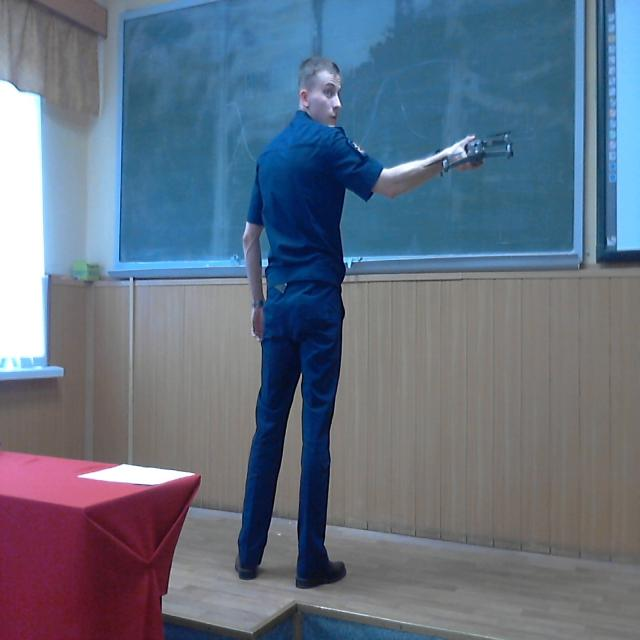drone: (429, 118, 533, 186)
